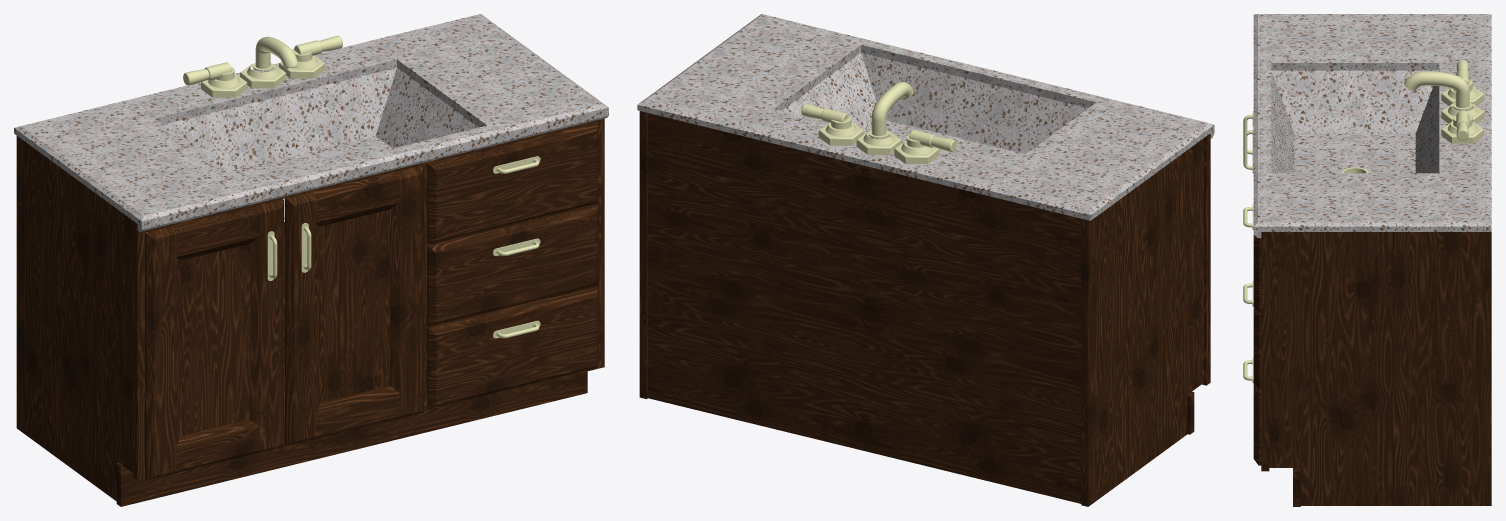
Rendered from bathroom_sink_cabinet.glb.
3 views of the same model, side by side, from view 1: azimuth 30°, elevation 25°; view 2: azimuth 150°, elevation 25°; view 3: azimuth 270°, elevation 25° (orthographic). The views are drawn at different scales.
Parts seen in each view (by area): view 1: Material2 (×13); view 2: Material2 (×8); view 3: Material2 (×12).
Part boxes in pixels (box(x1,y1,x2,y2)): Material2 (×13): box(14, 14, 608, 506); Material2 (×8): box(637, 14, 1214, 506); Material2 (×12): box(1253, 14, 1491, 506).
Size of the model in its own units: 48 by 34.67 by 23.73.
Materials: 5 (2 with a texture image).
